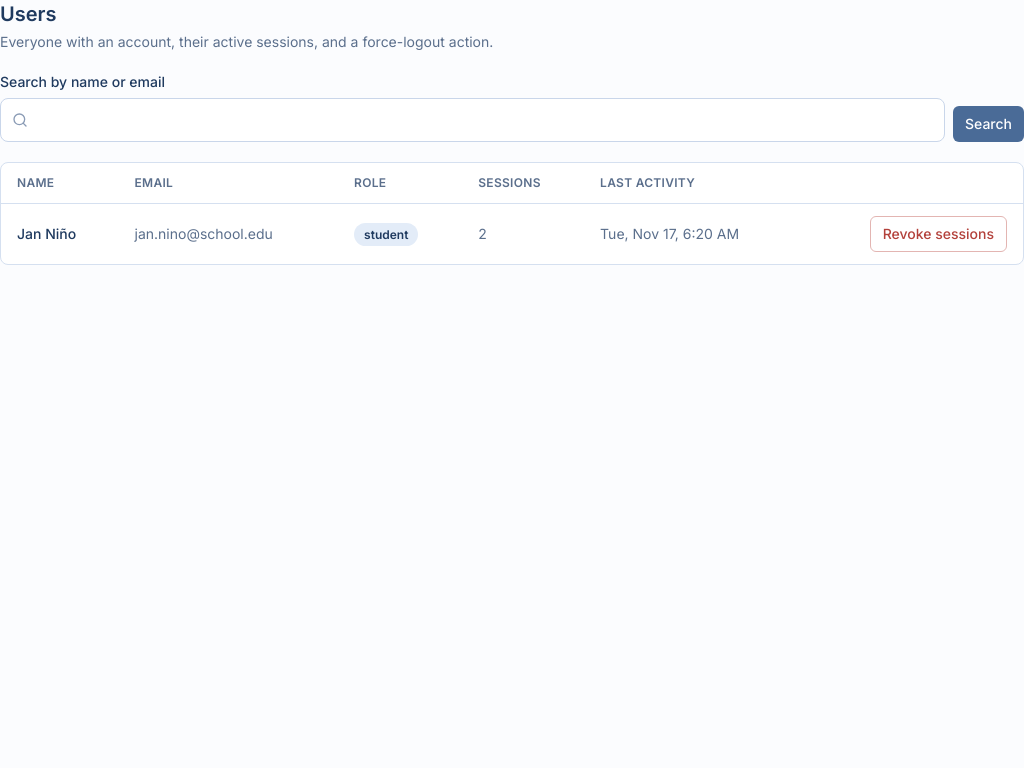
Scenario: Admin users page › lists users and force-logs-out one after confirmation
Expected: the text "Jan Niño" is shown, [1,204,118,264]
Expected: the text "jan.nino@school.edu" is shown, [118,204,338,264]
Click the button with aria-label "Revoke sessions for Jan Niño".
click(938, 234)  # box [870,216,1007,252]
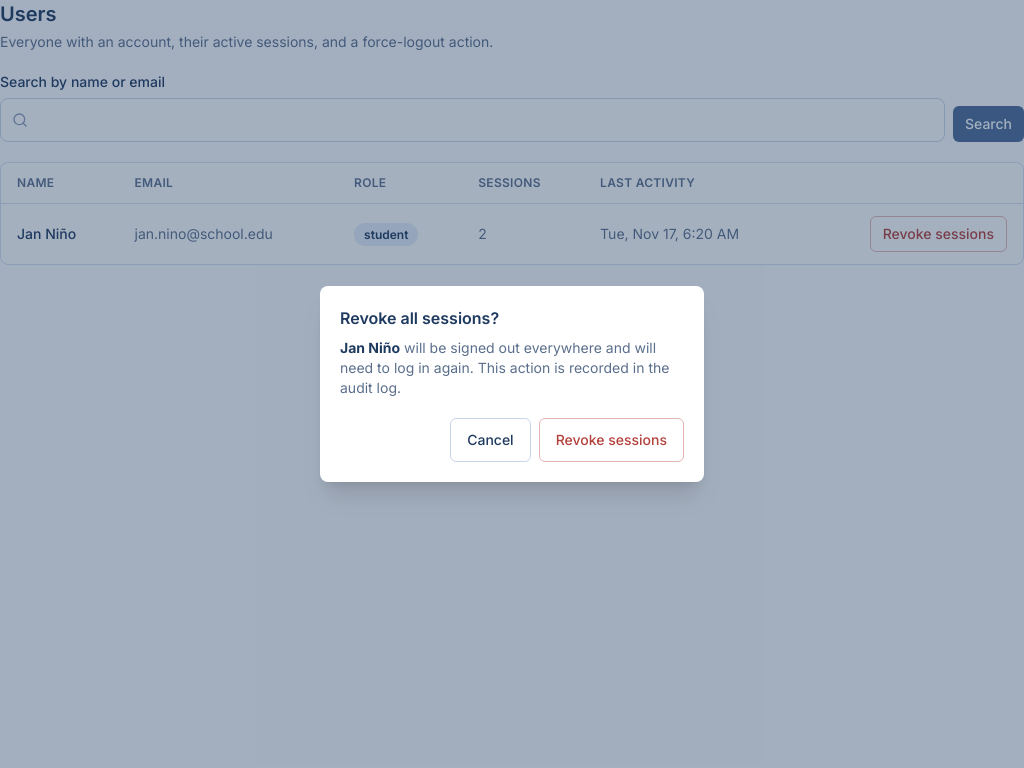
Expected: the text "Jan Niño" is shown, [340,339,400,356]
Click the button "Revoke sessions".
click(611, 440)  # box [539,418,684,462]
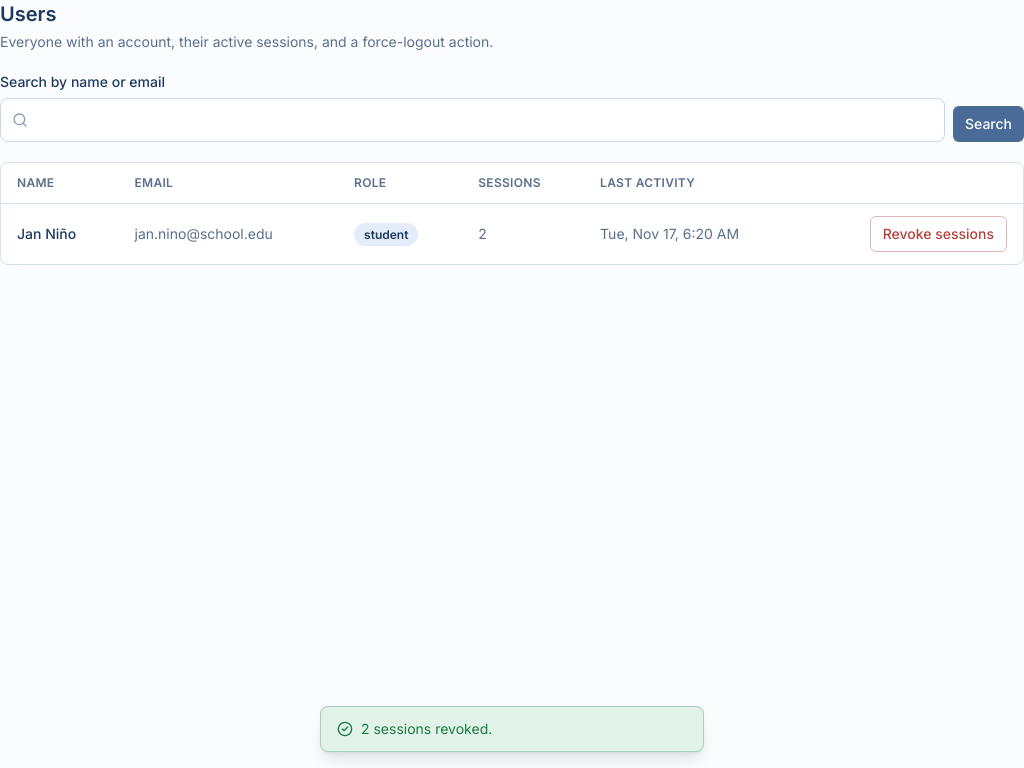
Expected: the text "2 sessions revoked." is shown, [361,719,492,739]
